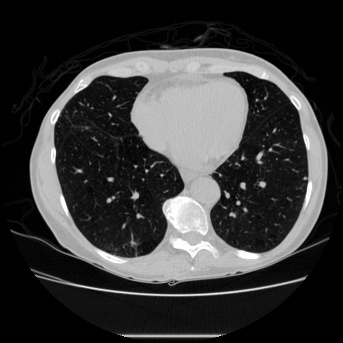PN: (303, 176, 307, 180)
